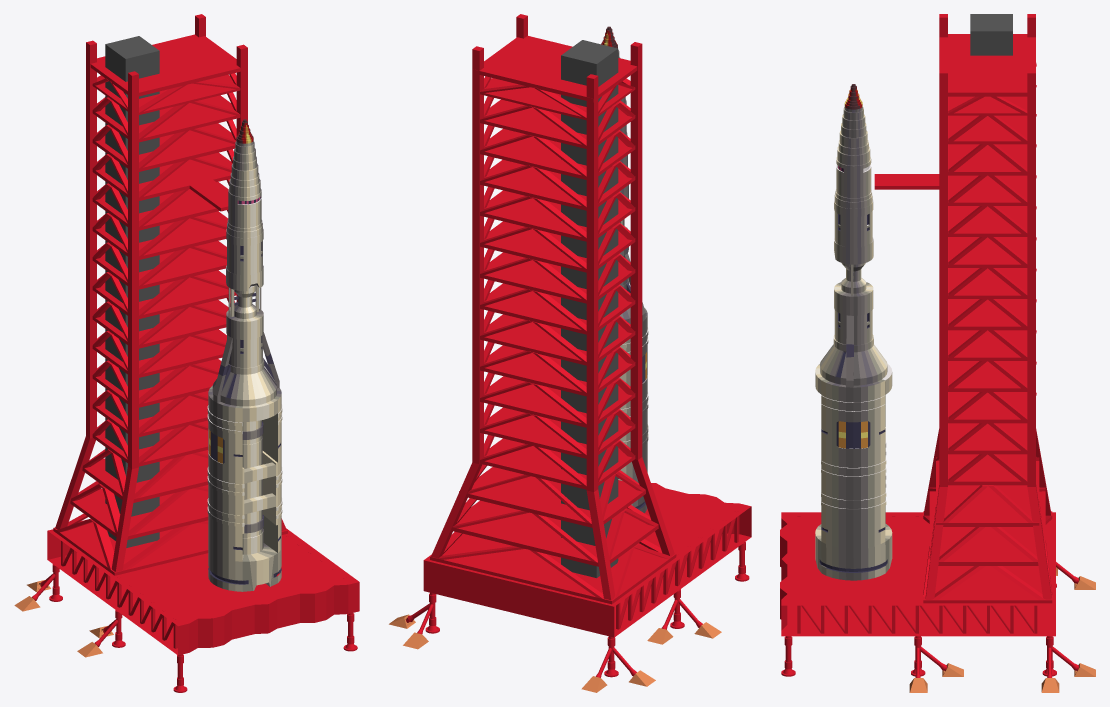
Rendered from SpaceStation.fbx.
3 renders of one model, left to right at view 1: azimuth 30°, elevation 25°; view 2: azimuth 150°, elevation 25°; view 3: azimuth 270°, elevation 25°, orthographic. The views are drawn at different scales.
Parts seen in each view (by area): view 1: Cylinder, Cubo, Cubo.026, Cubo.032, Cubo.029, Cubo.009, Cubo.024, Cubo.012, Cubo.020, Cubo.033, Cubo.021, Cubo.022 (+12 smaller); view 2: Cubo, Cubo.026, Cubo.009, Cubo.029, Cubo.012, Cubo.032, Cubo.030, Cubo.033, Cubo.024, Cubo.013, Cubo.010, Cubo.011 (+12 smaller); view 3: Cylinder, Cubo, Cubo.009, Cubo.030, Cubo.031, Cubo.024, Cubo.012, Cubo.033, Cubo.020, Cubo.013, Cubo.021, Cubo.011 (+13 smaller).
Part boxes in pixels (left/top/right/bottom): Cylinder: left=207, top=119, right=282, bottom=591; Cubo: left=47, top=528, right=359, bottom=655; Cubo.026: left=105, top=36, right=159, bottom=547; Cubo.032: left=111, top=71, right=138, bottom=571; Cubo.029: left=55, top=40, right=96, bottom=529; Cubo.009: left=53, top=513, right=287, bottom=575; Cubo.024: left=90, top=34, right=240, bottom=96; Cubo.012: left=70, top=481, right=208, bottom=539; Cubo.020: left=92, top=149, right=233, bottom=211; Cubo.033: left=82, top=449, right=208, bottom=502; Cubo.021: left=92, top=119, right=236, bottom=171; Cubo.022: left=92, top=92, right=240, bottom=142; Cubo: left=423, top=483, right=751, bottom=637; Cubo.026: left=561, top=40, right=618, bottom=578; Cubo.009: left=430, top=532, right=676, bottom=604; Cubo.029: left=586, top=74, right=614, bottom=600; Cubo.012: left=451, top=498, right=658, bottom=566; Cubo.032: left=630, top=42, right=674, bottom=556; Cubo.030: left=431, top=46, right=483, bottom=558; Cubo.033: left=459, top=464, right=645, bottom=527; Cubo.024: left=473, top=36, right=637, bottom=102; Cubo.013: left=480, top=372, right=635, bottom=427; Cubo.010: left=480, top=435, right=635, bottom=489; Cubo.011: left=480, top=404, right=635, bottom=458; Cylinder: left=815, top=84, right=892, bottom=580; Cubo: left=780, top=512, right=1055, bottom=636; Cubo.009: left=923, top=511, right=1052, bottom=603; Cubo.030: left=1027, top=70, right=1051, bottom=599; Cubo.031: left=925, top=70, right=947, bottom=599; Cubo.024: left=939, top=34, right=1035, bottom=96; Cubo.012: left=929, top=487, right=1045, bottom=565; Cubo.033: left=936, top=456, right=1039, bottom=526; Cubo.020: left=874, top=144, right=1036, bottom=205; Cubo.013: left=948, top=361, right=1036, bottom=423; Cubo.021: left=948, top=114, right=1036, bottom=175; Cubo.011: left=948, top=392, right=1036, bottom=454.
Size of the model in its own units: 5083 by 11068 by 5383.
